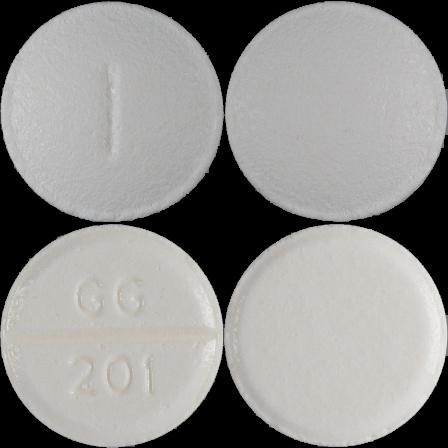48433-313: (0, 0, 224, 224)
